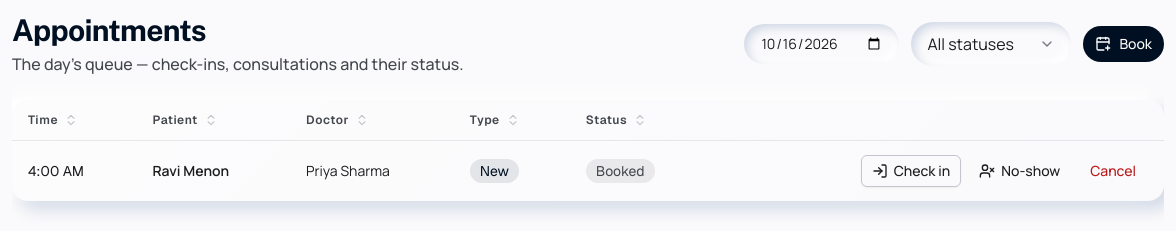
appointment lifecycle actions › Check in posts to /check-in and the row moves on
The image size is (1176, 231).
Click the button with aria-label "Check in Ravi Menon": click(911, 171) [861,155,961,187]
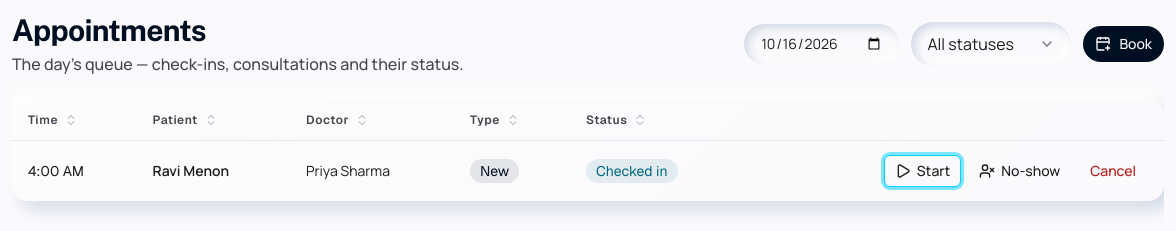
Expected: the text "Checked in" is shown, [586,159,678,183]
